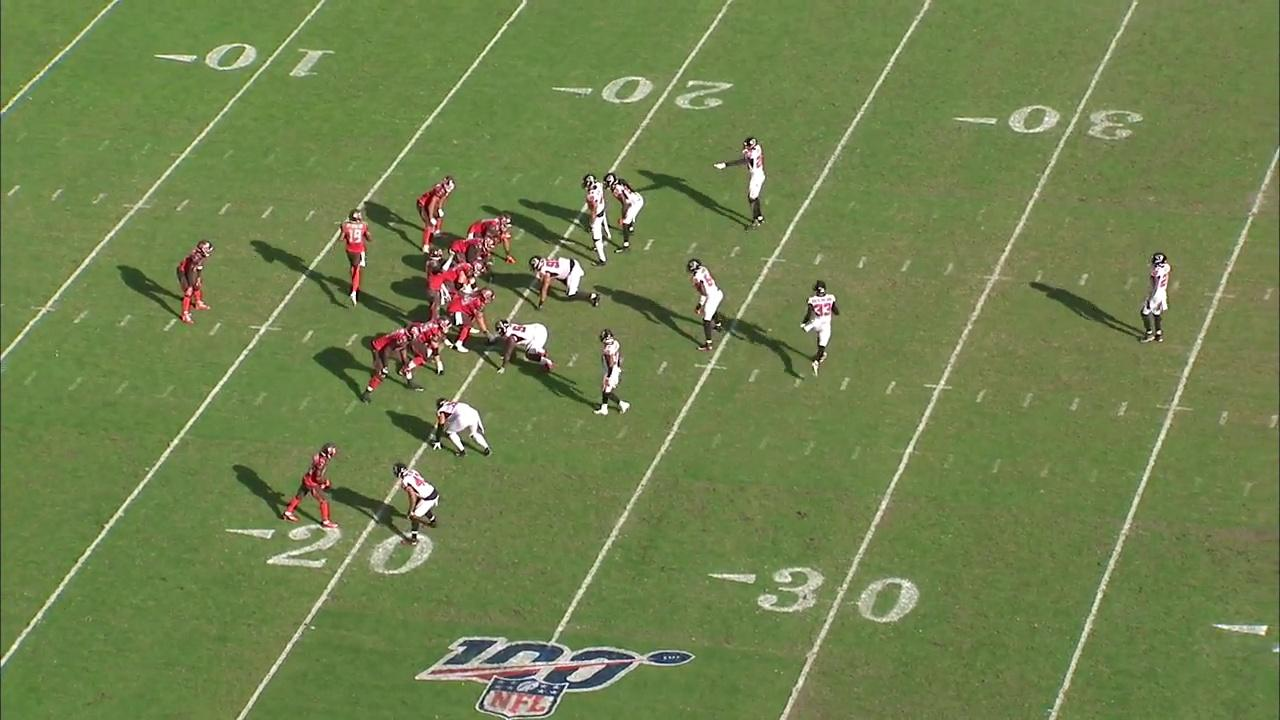player: (281, 441, 345, 532), (712, 133, 768, 231), (359, 324, 425, 405), (390, 459, 441, 548), (525, 252, 600, 310), (431, 397, 496, 461), (799, 279, 841, 377), (494, 316, 561, 374), (338, 206, 375, 309), (686, 257, 725, 353), (397, 315, 454, 380), (1135, 248, 1172, 347), (415, 172, 459, 255), (592, 327, 632, 418), (602, 170, 644, 256), (446, 286, 499, 354), (174, 239, 215, 325), (577, 174, 610, 267), (466, 211, 515, 265), (422, 247, 456, 323), (447, 235, 498, 274), (438, 260, 486, 297)
